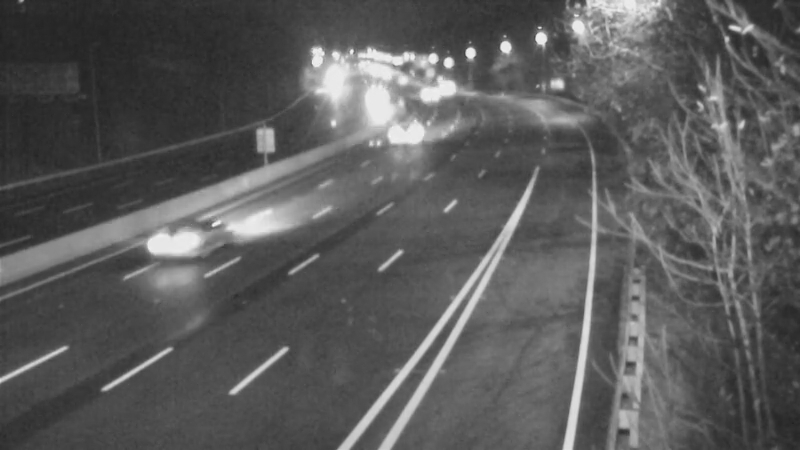vehicle: (146, 200, 226, 280), (419, 60, 469, 110), (399, 69, 449, 119), (385, 108, 435, 158), (346, 74, 396, 124)
